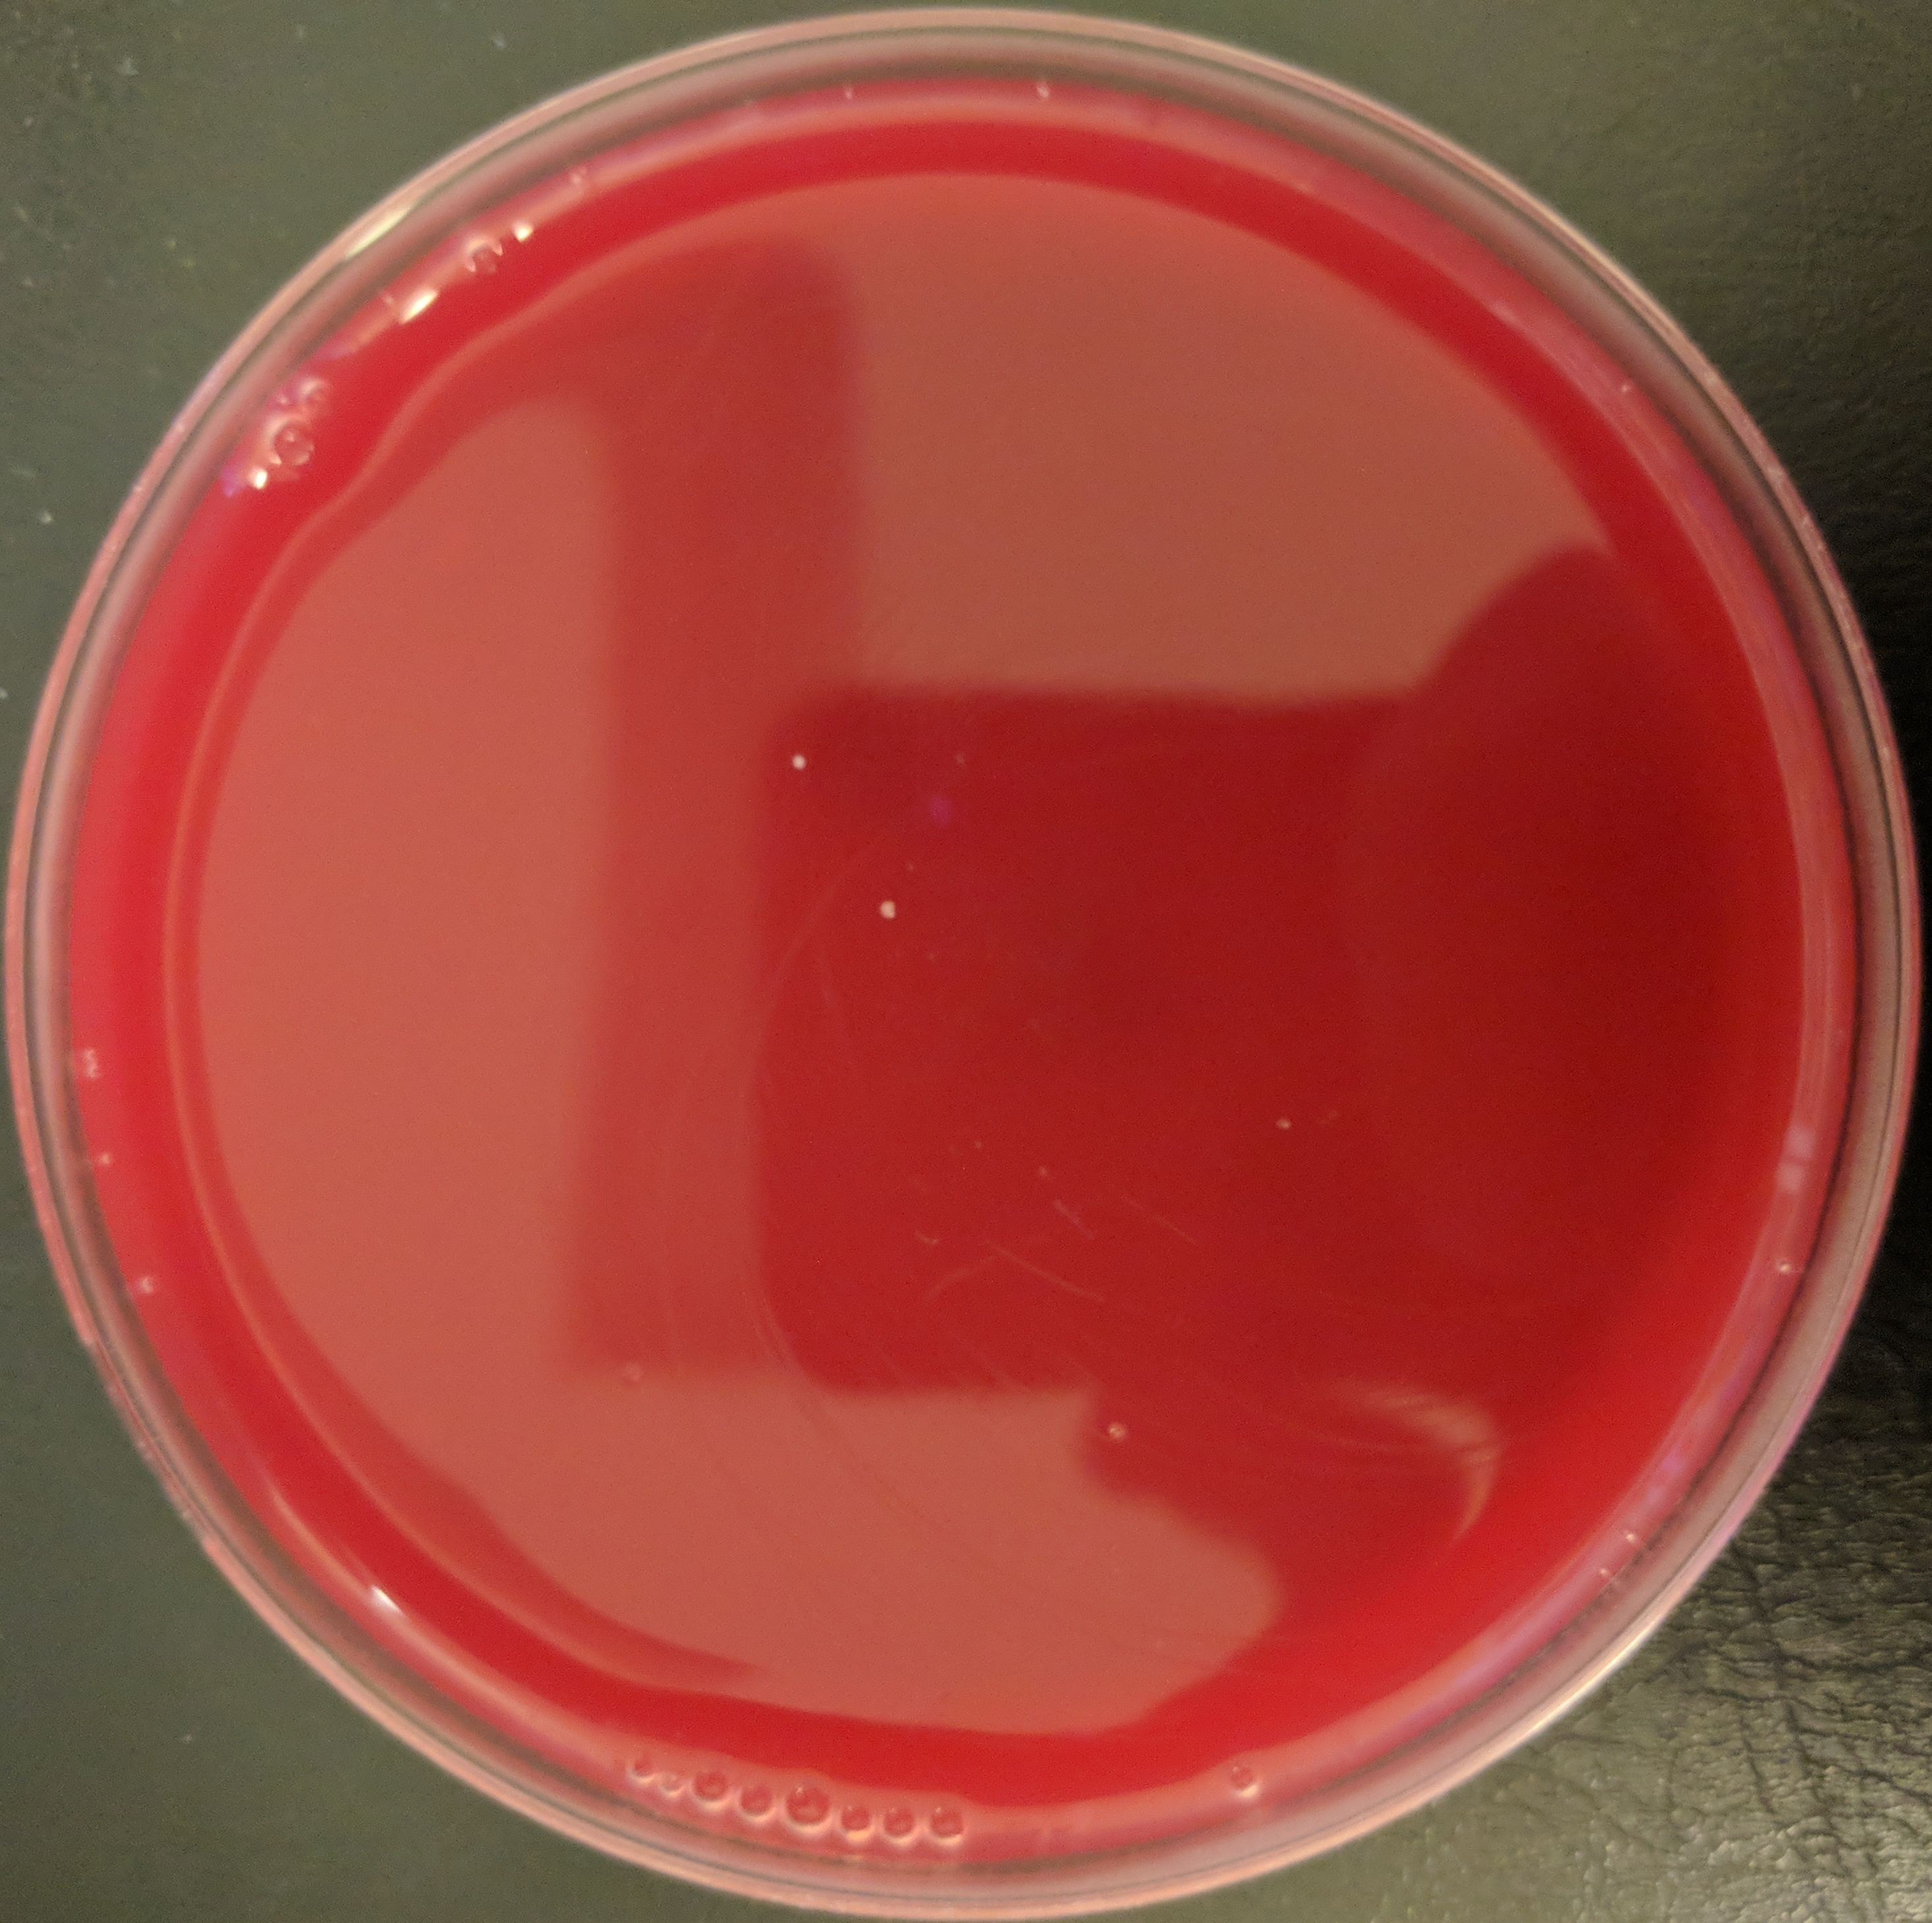sp09: (872, 895, 907, 925), (1101, 1419, 1138, 1448), (787, 743, 812, 777)
